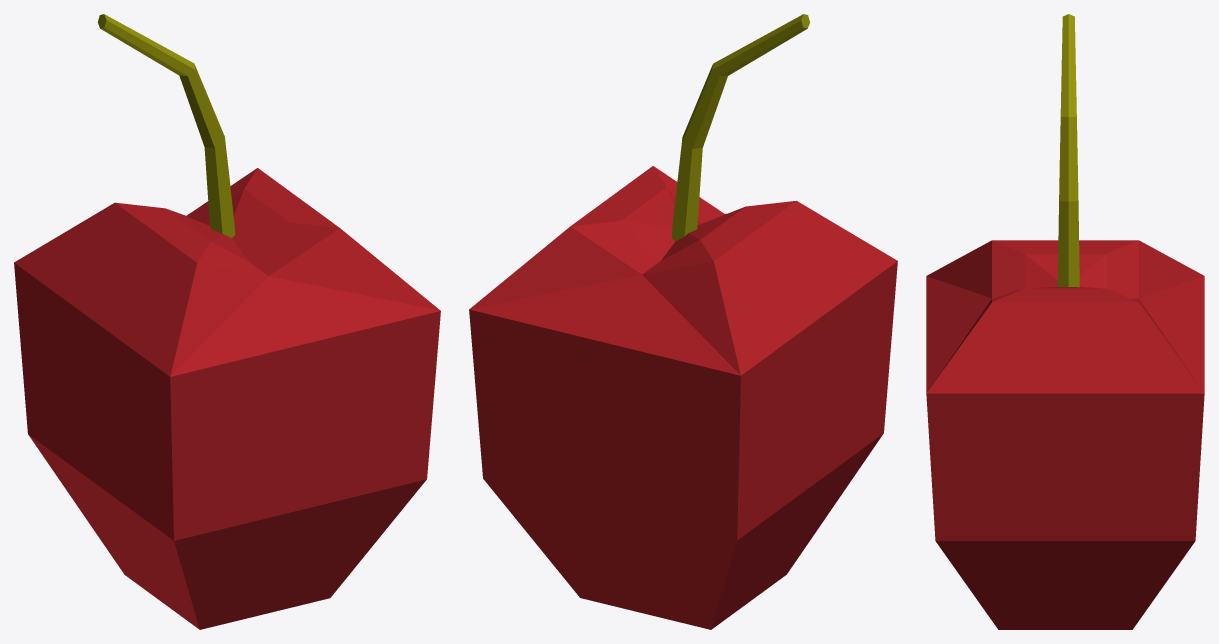
File: Cherry.fbx
3 renders of one model, left to right at view 1: azimuth 30°, elevation 25°; view 2: azimuth 150°, elevation 25°; view 3: azimuth 270°, elevation 25°, orthographic. The views are drawn at different scales.
Visible parts, largest first — view 1: Cherry_All; view 2: Cherry_All; view 3: Cherry_All.
Boxes of the visible parts, x1,y1,x2,y2 form: Cherry_All: (14,14,440,629); Cherry_All: (469,14,897,629); Cherry_All: (926,14,1204,629).
Size of the model in its own units: 2.85 by 6.04 by 2.85.
